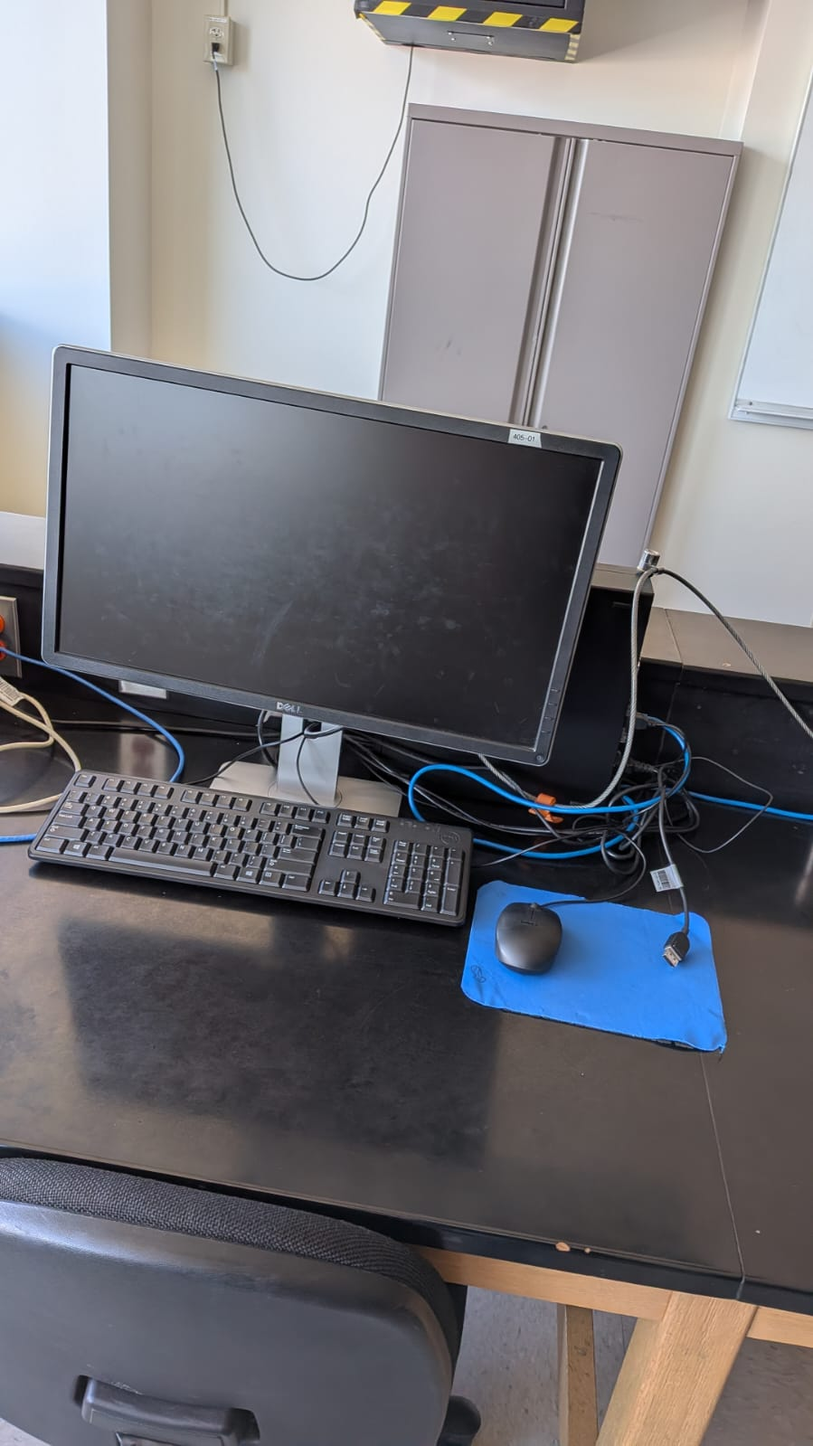keyboard: (27, 770, 473, 929)
monitor: (42, 346, 621, 765)
mouse: (495, 902, 562, 976)
